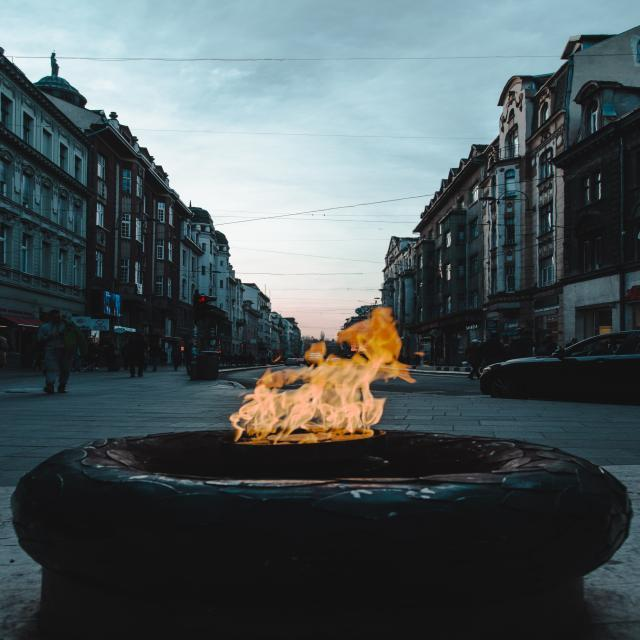Fire: (234, 302, 415, 448)
